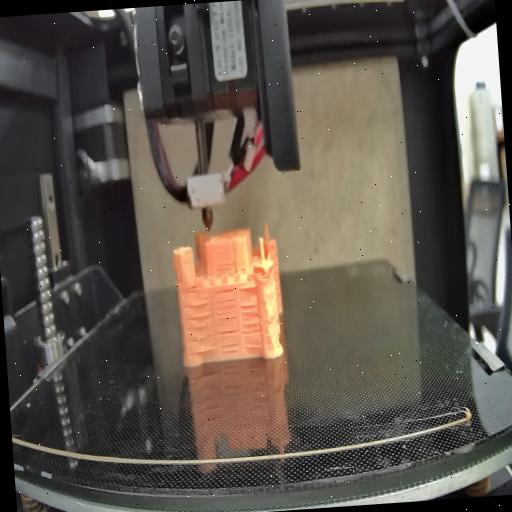cracks: (184, 302, 216, 354), (240, 303, 265, 352), (213, 286, 237, 322), (218, 326, 240, 354), (216, 259, 231, 272), (238, 286, 258, 294)
